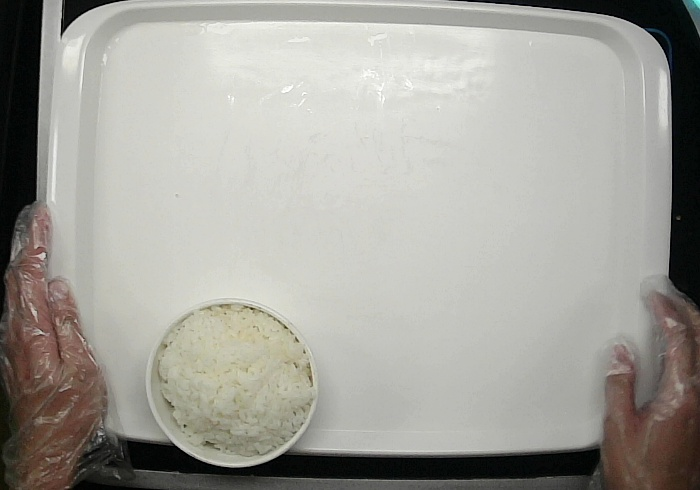HZYJPL-Fan_Wan: (145, 298, 318, 468)
